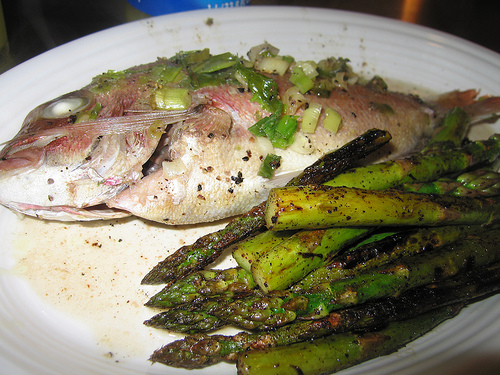fish: (0, 48, 499, 230)
